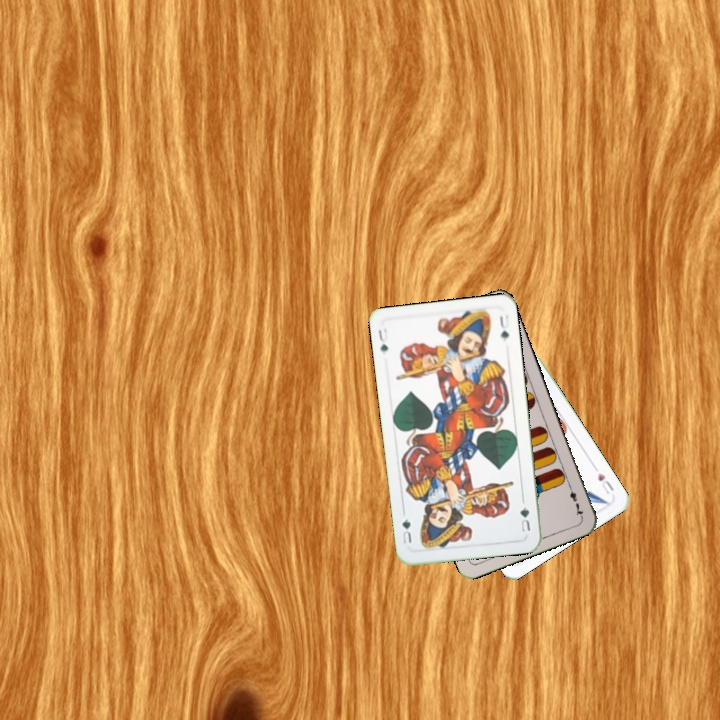E7: (564, 480, 586, 519)
GU: (516, 503, 533, 535), (374, 324, 391, 355)
HU: (590, 462, 616, 497)
